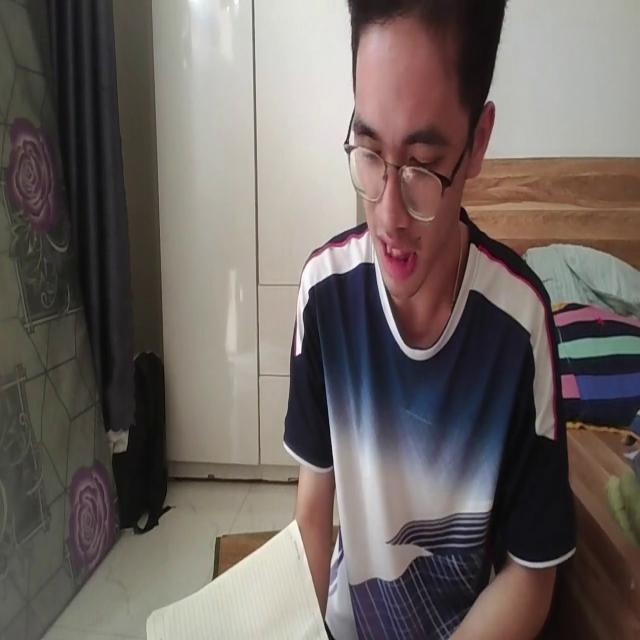book: (148, 519, 330, 640)
student: (288, 0, 571, 640)
